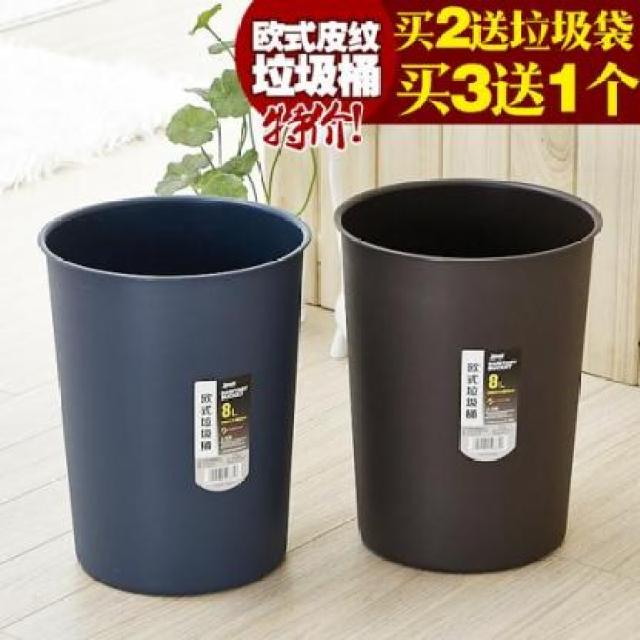dustbin: (32, 192, 313, 602), (331, 176, 604, 580)
